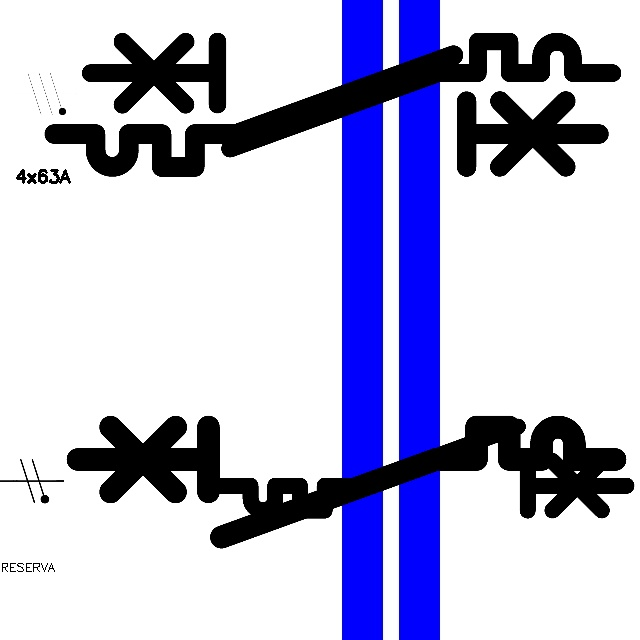interruptor_termomagnetico: (40, 41, 613, 181), (63, 413, 628, 551), (77, 28, 626, 162), (209, 416, 637, 521)
